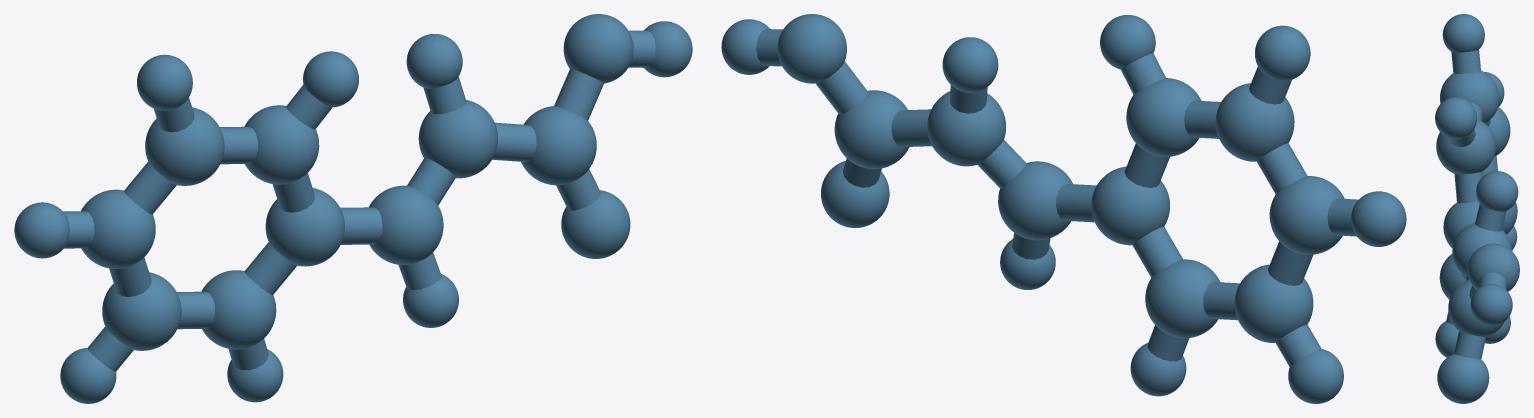
File: 444539-bas-print_NIH3D.glb
3 views of the same model, side by side, from view 1: azimuth 30°, elevation 25°; view 2: azimuth 150°, elevation 25°; view 3: azimuth 270°, elevation 25° (orthographic). The views are drawn at different scales.
Visible parts, largest first — view 1: atoms, bonds; view 2: atoms, bonds; view 3: atoms, bonds.
Boxes of the visible parts, left/top/right/bottom form: atoms: left=14, top=14, right=692, bottom=403; bonds: left=63, top=30, right=655, bottom=371; atoms: left=721, top=14, right=1406, bottom=403; bonds: left=756, top=29, right=1358, bottom=366; atoms: left=1435, top=14, right=1519, bottom=403; bonds: left=1446, top=50, right=1506, bottom=359.
Bounding box in the file's own units: 10.02 × 5.4 × 1.45.
